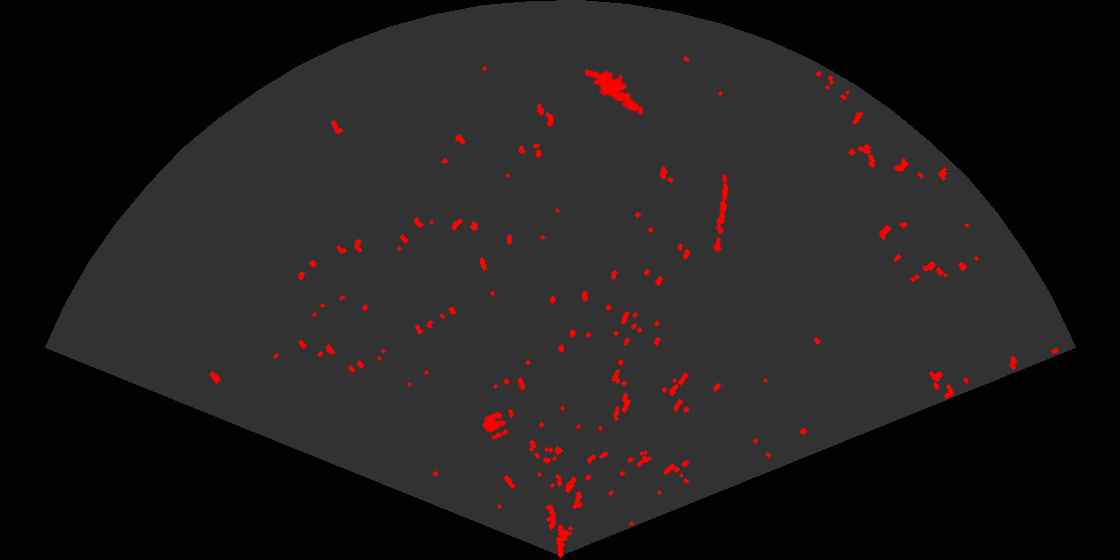ball: (480, 410, 510, 442)
chain: (712, 172, 730, 255)
frogman: (585, 67, 646, 116)
